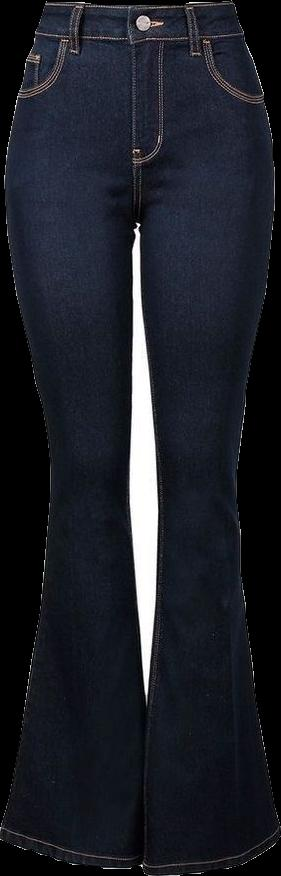Hemline: (141, 830, 280, 875), (0, 827, 146, 869)
Pantleg: (124, 0, 279, 875), (0, 0, 151, 868)
Waistline: (34, 24, 241, 47), (42, 0, 232, 15)
